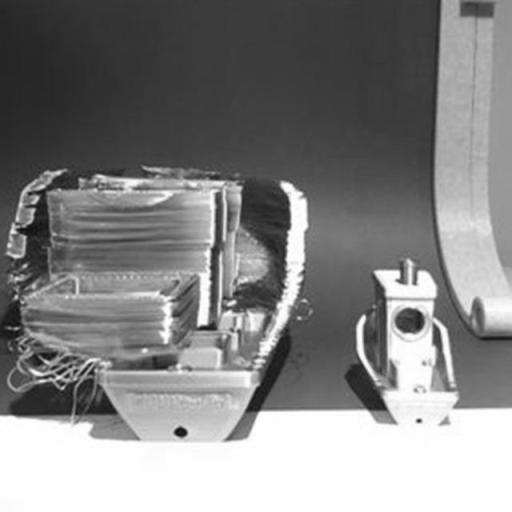spaghetti_and_stringing: (7, 334, 102, 426), (1, 260, 53, 308), (51, 268, 82, 300), (288, 296, 316, 324)
